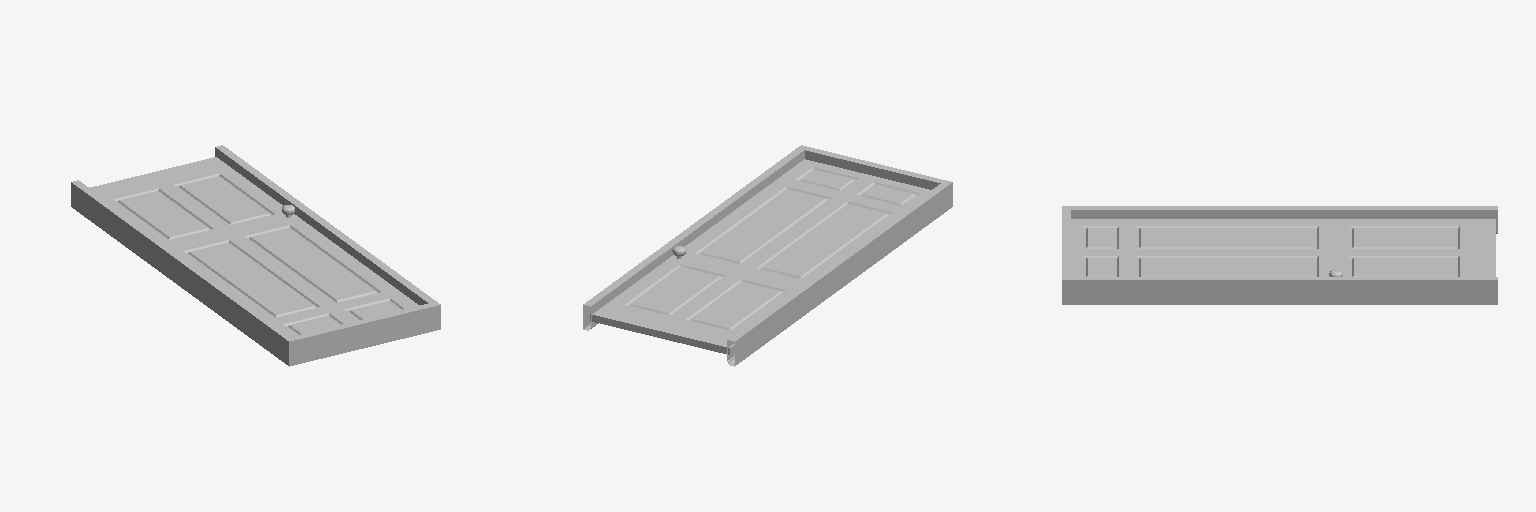
The model's file is door.obj.
The picture shows the model from 3 angles: view 1: azimuth 30°, elevation 25°; view 2: azimuth 150°, elevation 25°; view 3: azimuth 270°, elevation 25°; orthographic projection.
Parts seen in each view (by area): view 1: 6PanelDoor36x126, 6PanelDoorFrame36x126; view 2: 6PanelDoor36x126, 6PanelDoorFrame36x126; view 3: 6PanelDoor36x126, 6PanelDoorFrame36x126.
Part boxes in pixels (x1,y1,x2,y2): 6PanelDoor36x126: (90,157,419,336); 6PanelDoorFrame36x126: (71,145,440,366); 6PanelDoor36x126: (590,159,930,354); 6PanelDoorFrame36x126: (583,145,952,366); 6PanelDoor36x126: (1071,219,1495,276); 6PanelDoorFrame36x126: (1062,206,1497,304).
Bounding box in the file's own units: 91.86 × 16.73 × 229.